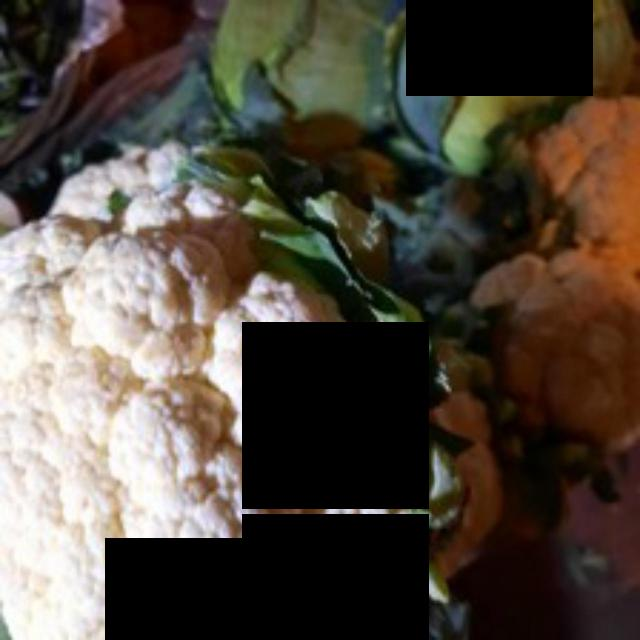cauliflower: (0, 146, 494, 636)
